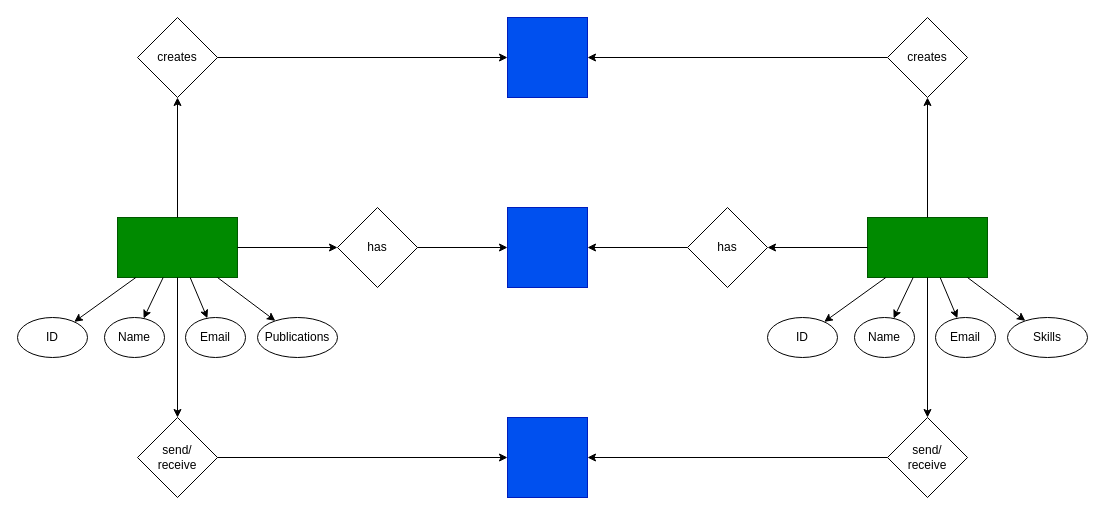
Image size: 1105x515. Some labels were removed from this diagram. Here are the shapes that lost their labels. From the top down, the centre of each, then its label:
At pixel 547 57: "Profile".
At pixel 177 247: "Professors".
At pixel 547 247: "Research Areas".
At pixel 927 247: "Students".
At pixel 547 457: "Messages".
